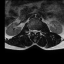CCS_normal: (34, 28, 36, 36)
LFS_normal: (38, 28, 39, 33)
LLS_normal: (36, 28, 38, 34)
RFS_normal: (30, 27, 32, 33)
RLS_normal: (32, 28, 34, 34)
